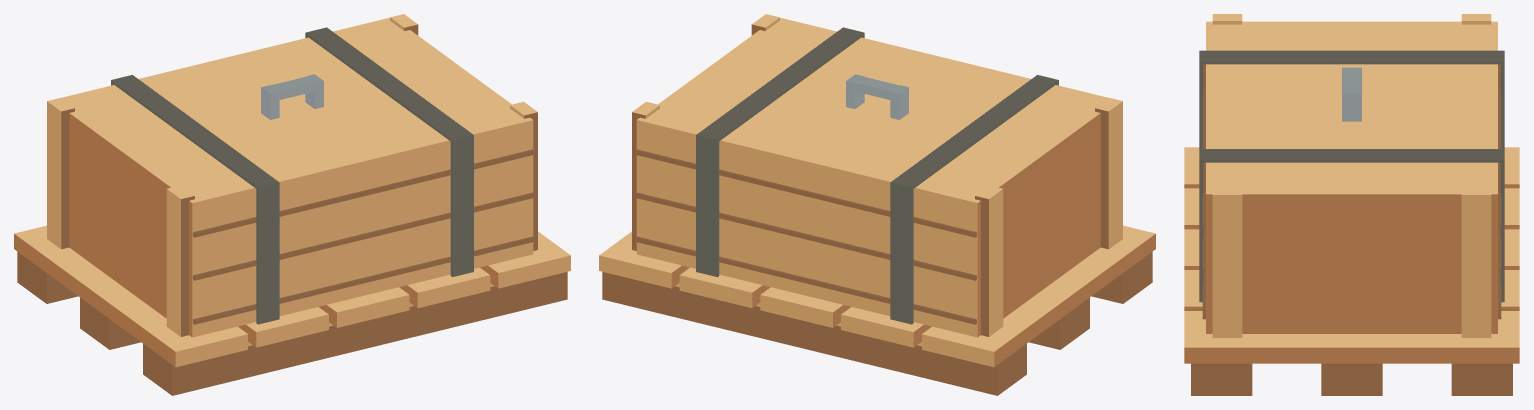
The model's file is pallet-v1.glb.
The picture shows the model from 3 angles, left to right: view 1: azimuth 30°, elevation 25°; view 2: azimuth 150°, elevation 25°; view 3: azimuth 270°, elevation 25°; orthographic projection. The views are drawn at different scales.
Visible parts, largest first — view 1: Plywood load, Pallet runner, Pallet top slat, Top strap, Top strap.001, Corner frame, Corner frame.001, Vertical strap, Vertical strap.002, Pallet top slat.004, Pallet top slat.002, Pallet top slat.003 (+9 smaller); view 2: Plywood load, Pallet runner.002, Pallet top slat, Top strap, Top strap.001, Corner frame.001, Corner frame, Vertical strap.001, Vertical strap.003, Pallet top slat.004, Pallet top slat.002, Pallet top slat.003 (+9 smaller); view 3: Plywood load, Pallet top slat.004, Corner frame.002, Corner frame.003, Top strap, Top strap.001, Pallet runner.001, Pallet runner, Pallet runner.002, Pallet top slat.003, Pallet top slat, Pallet top slat.001 (+11 smaller).
Part boxes in pixels (x1=…): Plywood load: x1=61, y1=17, x2=533, y2=337; Pallet runner: x1=143, y1=272, x2=567, y2=395; Pallet top slat: x1=14, y1=225, x2=247, y2=367; Top strap: x1=111, y1=76, x2=277, y2=189; Top strap.001: x1=307, y1=28, x2=471, y2=140; Corner frame: x1=166, y1=185, x2=194, y2=336; Corner frame.001: x1=47, y1=97, x2=74, y2=249; Vertical strap: x1=256, y1=181, x2=279, y2=324; Vertical strap.002: x1=450, y1=133, x2=473, y2=276; Pallet top slat.004: x1=480, y1=231, x2=570, y2=288; Pallet top slat.002: x1=319, y1=287, x2=409, y2=327; Pallet top slat.003: x1=399, y1=267, x2=490, y2=308; Plywood load: x1=636, y1=17, x2=1108, y2=337; Pallet runner.002: x1=602, y1=272, x2=1026, y2=395; Pallet top slat: x1=922, y1=225, x2=1155, y2=367; Top strap: x1=893, y1=76, x2=1058, y2=189; Top strap.001: x1=698, y1=28, x2=862, y2=142; Corner frame.001: x1=975, y1=185, x2=1003, y2=336; Corner frame: x1=1095, y1=97, x2=1122, y2=249; Vertical strap.001: x1=890, y1=181, x2=913, y2=324; Vertical strap.003: x1=696, y1=133, x2=719, y2=276; Pallet top slat.004: x1=599, y1=231, x2=689, y2=288; Pallet top slat.002: x1=760, y1=287, x2=850, y2=327; Pallet top slat.003: x1=679, y1=267, x2=770, y2=308; Plywood load: x1=1206, y1=21, x2=1497, y2=333; Pallet top slat.004: x1=1184, y1=311, x2=1519, y2=363; Corner frame.002: x1=1212, y1=188, x2=1242, y2=337; Corner frame.003: x1=1461, y1=188, x2=1491, y2=337; Top strap: x1=1200, y1=50, x2=1503, y2=64; Top strap.001: x1=1200, y1=149, x2=1503, y2=162; Pallet runner.001: x1=1321, y1=363, x2=1382, y2=395; Pallet runner: x1=1191, y1=363, x2=1252, y2=395; Pallet runner.002: x1=1451, y1=363, x2=1512, y2=395; Pallet top slat.003: x1=1184, y1=270, x2=1519, y2=310; Pallet top slat: x1=1184, y1=147, x2=1519, y2=188; Pallet top slat.001: x1=1184, y1=188, x2=1519, y2=229.
Bounding box in the file's own units: 24 × 12 × 17.
